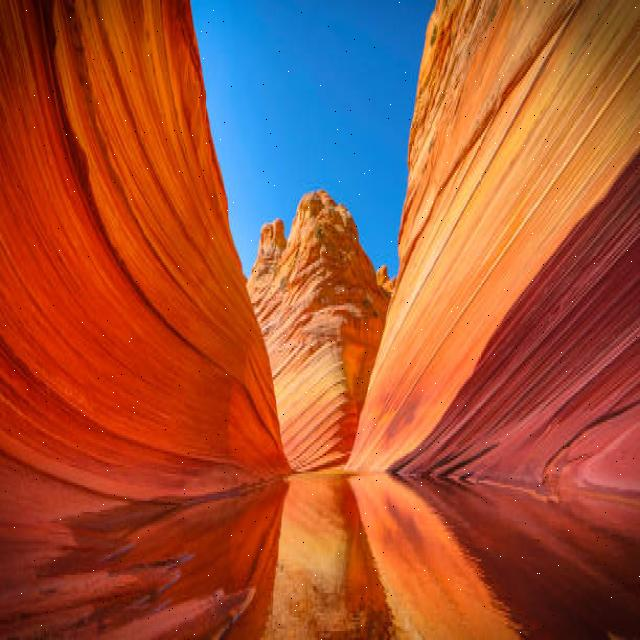Sedimentary: (1, 2, 640, 636)
